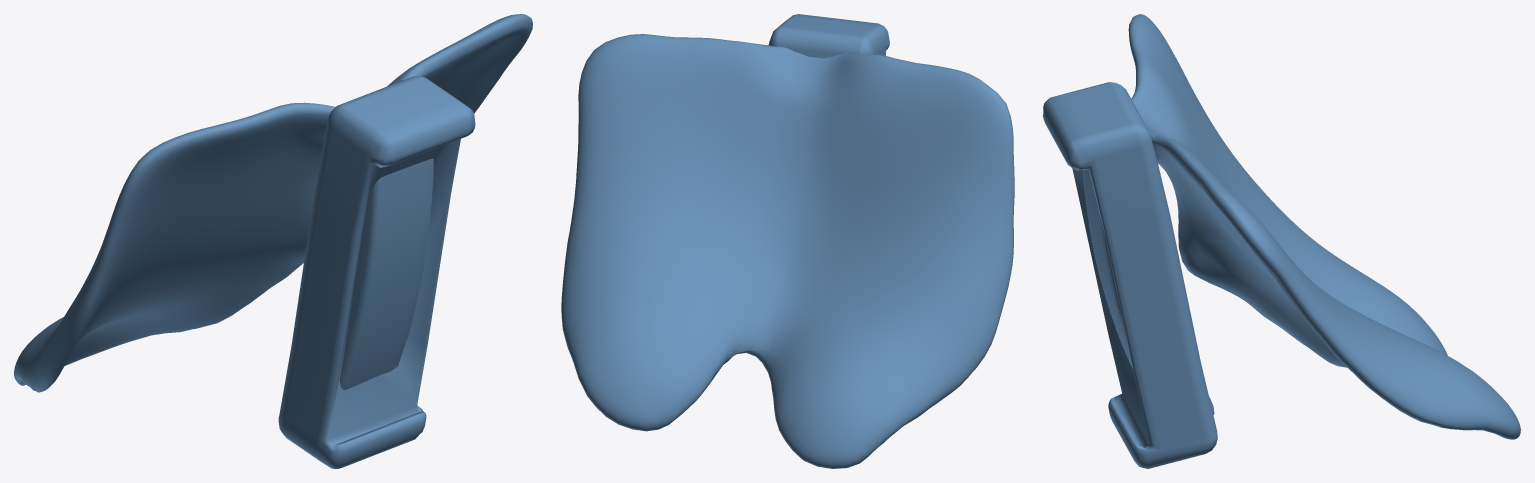
File: BR2_Spacers_BaguetteMetal.001 3.glb
3 renders of one model, left to right at view 1: azimuth 30°, elevation 25°; view 2: azimuth 150°, elevation 25°; view 3: azimuth 270°, elevation 25°, orthographic. The views are drawn at different scales.
Visible parts, largest first — view 1: BR2_Spacers_BaguetteMetal.001; view 2: BR2_Spacers_BaguetteMetal.001; view 3: BR2_Spacers_BaguetteMetal.001.
Part boxes in pixels (x1,y1,x2,y2): BR2_Spacers_BaguetteMetal.001: (14, 14, 532, 468); BR2_Spacers_BaguetteMetal.001: (561, 14, 1014, 468); BR2_Spacers_BaguetteMetal.001: (1043, 14, 1520, 468).
Bounding box in the file's own units: 1.03 × 0.7371 × 0.9184.
